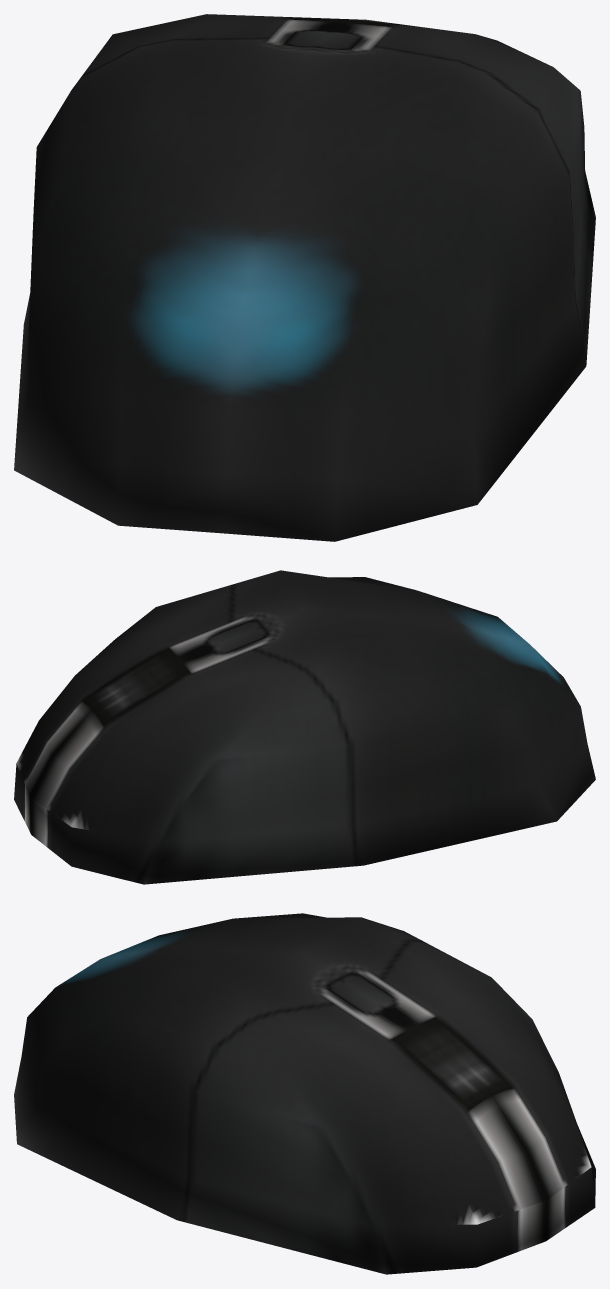
The picture shows the model from 3 angles, top to bottom: view 1: azimuth 30°, elevation 25°; view 2: azimuth 150°, elevation 25°; view 3: azimuth 270°, elevation 25°; orthographic projection. The views are drawn at different scales.
Parts seen in each view (by area): view 1: mouse002_atlas_dormitorioelectro_0; view 2: mouse002_atlas_dormitorioelectro_0; view 3: mouse002_atlas_dormitorioelectro_0.
Boxes of the visible parts, <box> form: mouse002_atlas_dormitorioelectro_0: <box>14,14,595,541</box>; mouse002_atlas_dormitorioelectro_0: <box>14,570,595,884</box>; mouse002_atlas_dormitorioelectro_0: <box>14,913,595,1274</box>.
Size of the model in its own units: 0.0721 by 0.0286 by 0.0749.
Materials: 1 (1 with a texture image).
